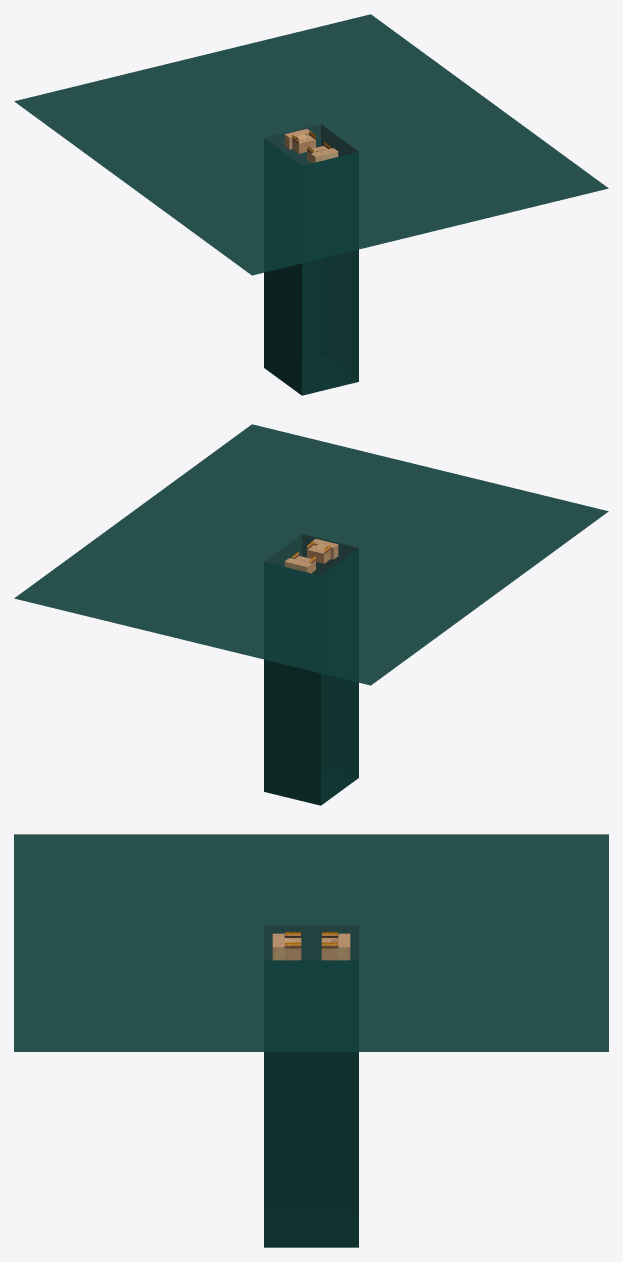
The model's file is Duel_Stage 37.fbx.
3 views of the same model, one above another, from view 1: azimuth 30°, elevation 25°; view 2: azimuth 150°, elevation 25°; view 3: azimuth 270°, elevation 25° (orthographic). The views are drawn at different scales.
Parts seen in each view (by area): view 1: Plane.134, CR_Platform_Cube.012; view 2: Plane.134, CR_Platform_Cube.012; view 3: Plane.134, CR_Platform_Cube.012.
Part boxes in pixels (x1,y1,x2,y2): Plane.134: [14, 14, 608, 395]; CR_Platform_Cube.012: [284, 129, 338, 163]; Plane.134: [14, 424, 608, 805]; CR_Platform_Cube.012: [284, 539, 338, 573]; Plane.134: [14, 834, 608, 1247]; CR_Platform_Cube.012: [272, 933, 350, 960].
Size of the model in its own units: 37655 by 24407 by 43502.
